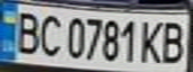0: (63, 13, 84, 60)
1: (118, 17, 139, 63)
7: (81, 15, 103, 61)
8: (103, 16, 121, 63)
B: (157, 17, 190, 65), (9, 8, 42, 55)
C: (33, 10, 66, 57)
K: (136, 17, 166, 64)
